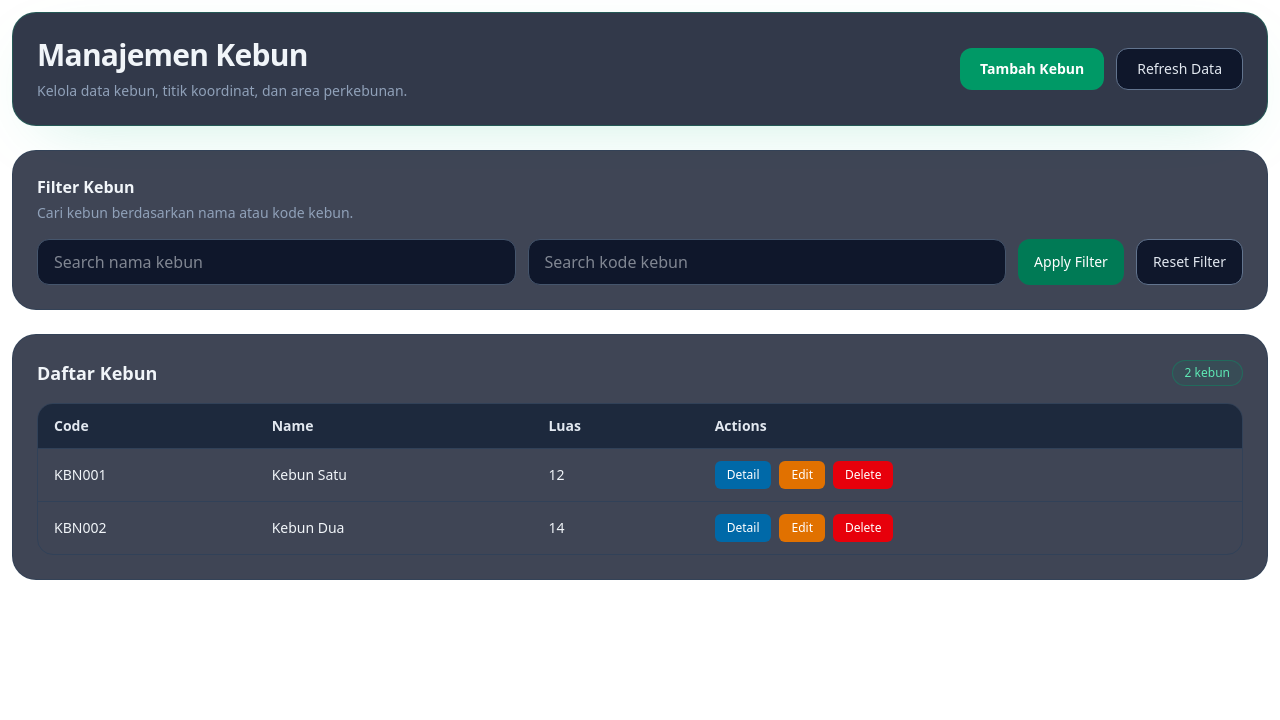
it: AdminKebunPage delete flow › renders active-mandor delete conflict error from backend clearly
Expected: the text "KBN001" is shown, [38, 448, 256, 502]
Click the button "Delete" in the row of "KBN001": (863, 475) [833, 461, 894, 489]
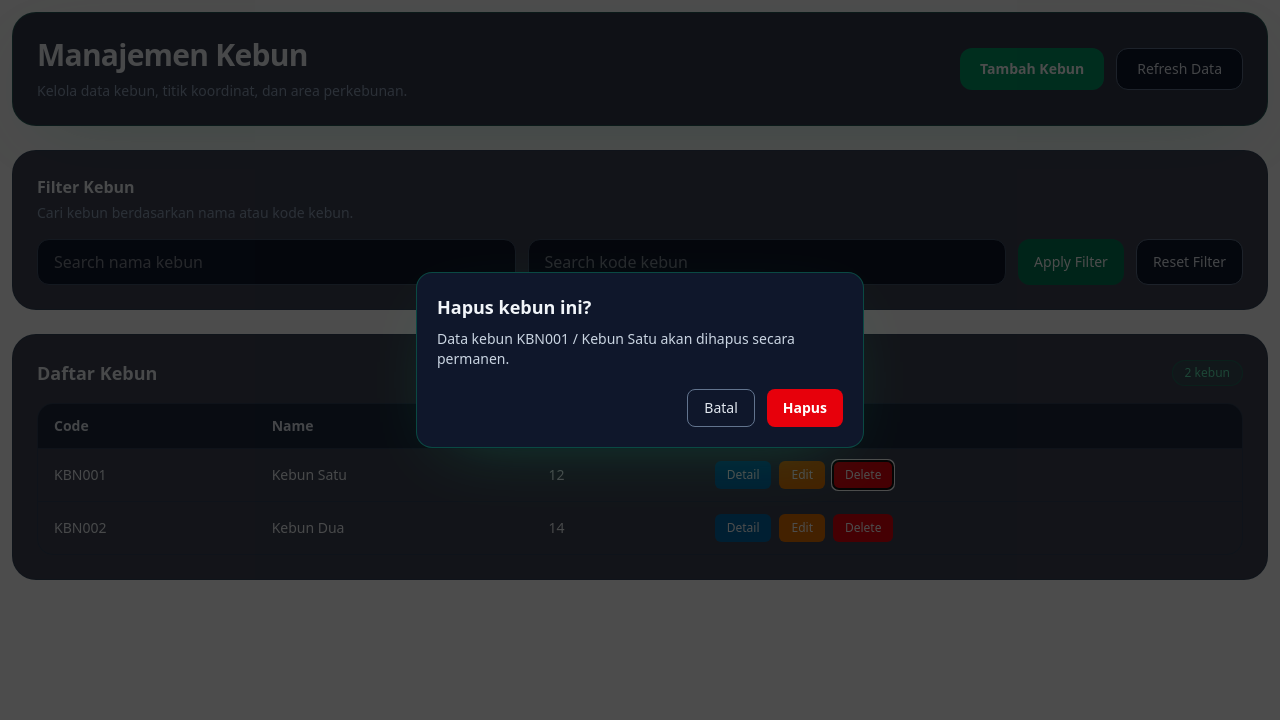
Click the button "Hapus": (805, 408) [767, 389, 843, 427]
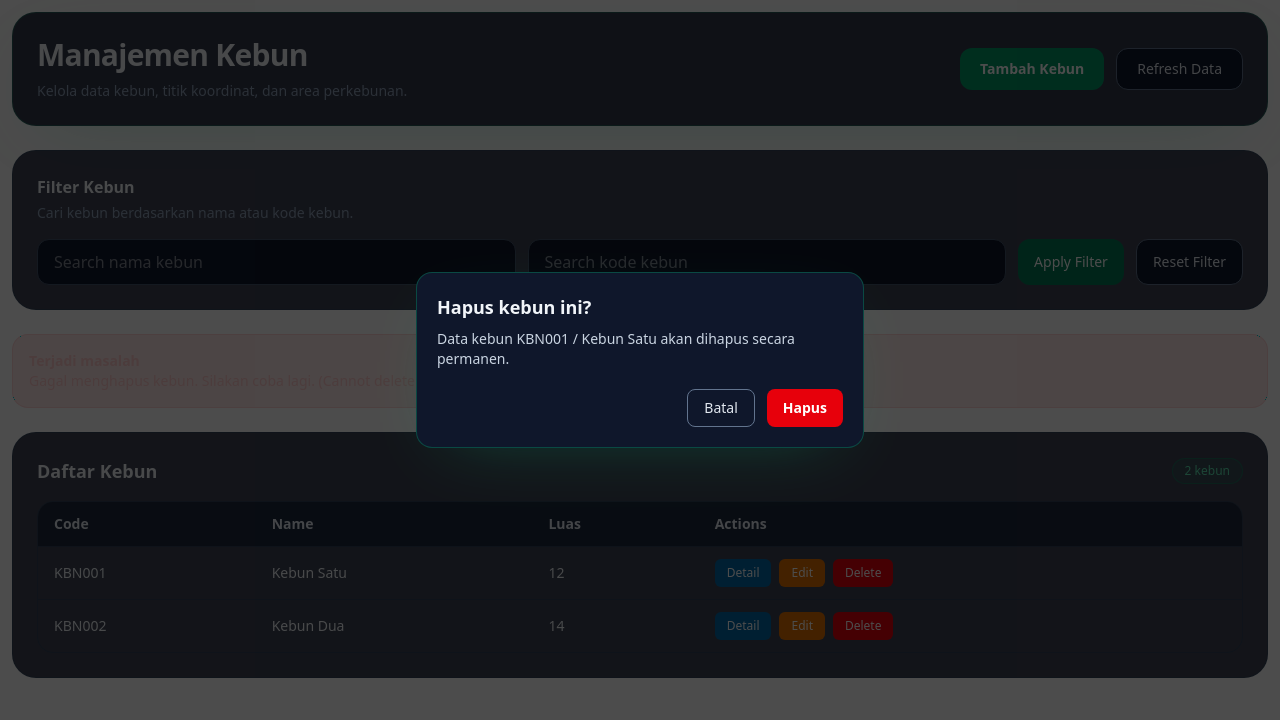
Expected: the text "Cannot delete kebun with active mandor" is shown, [29, 371, 594, 390]
